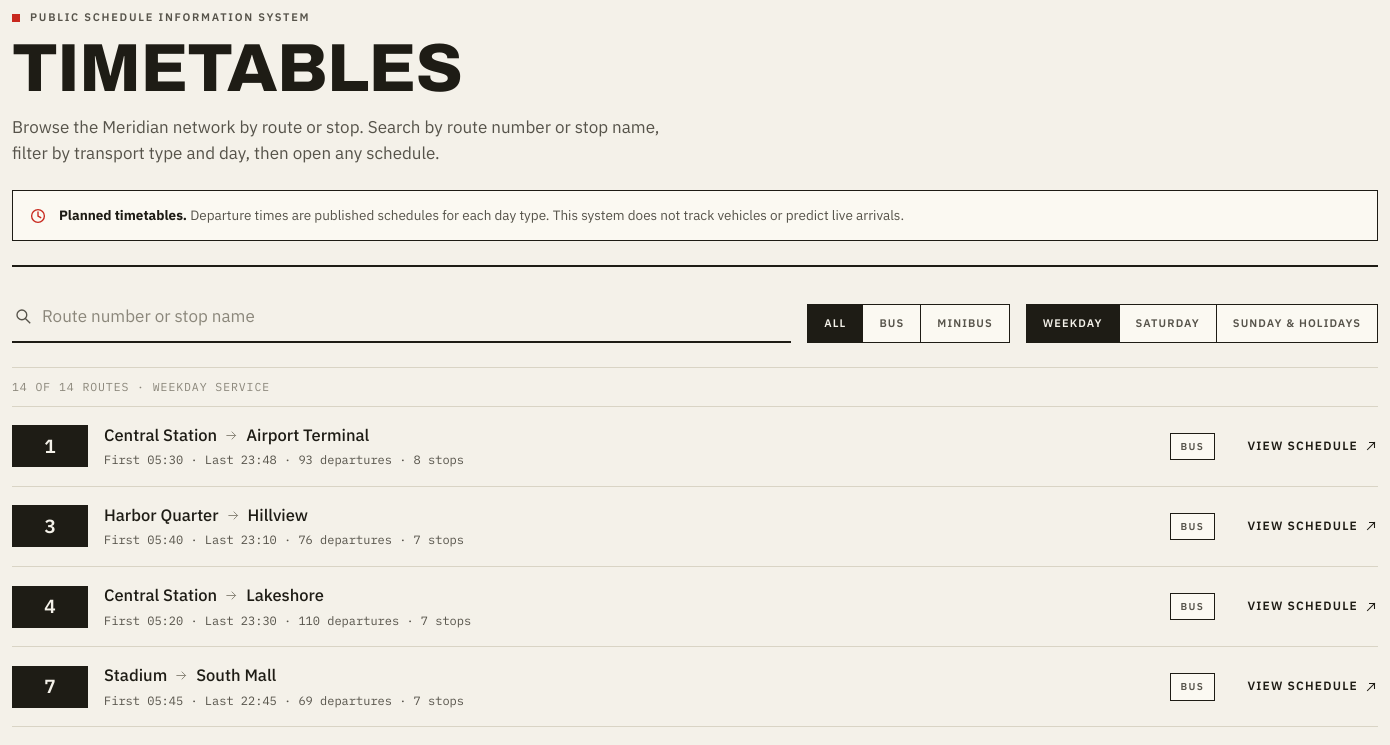
it: RouteListComponent › offers stop suggestions when the search matches a stop name
In the search field with id "route-search": [416, 316] box [42,299,789,333], type "lakeshore"
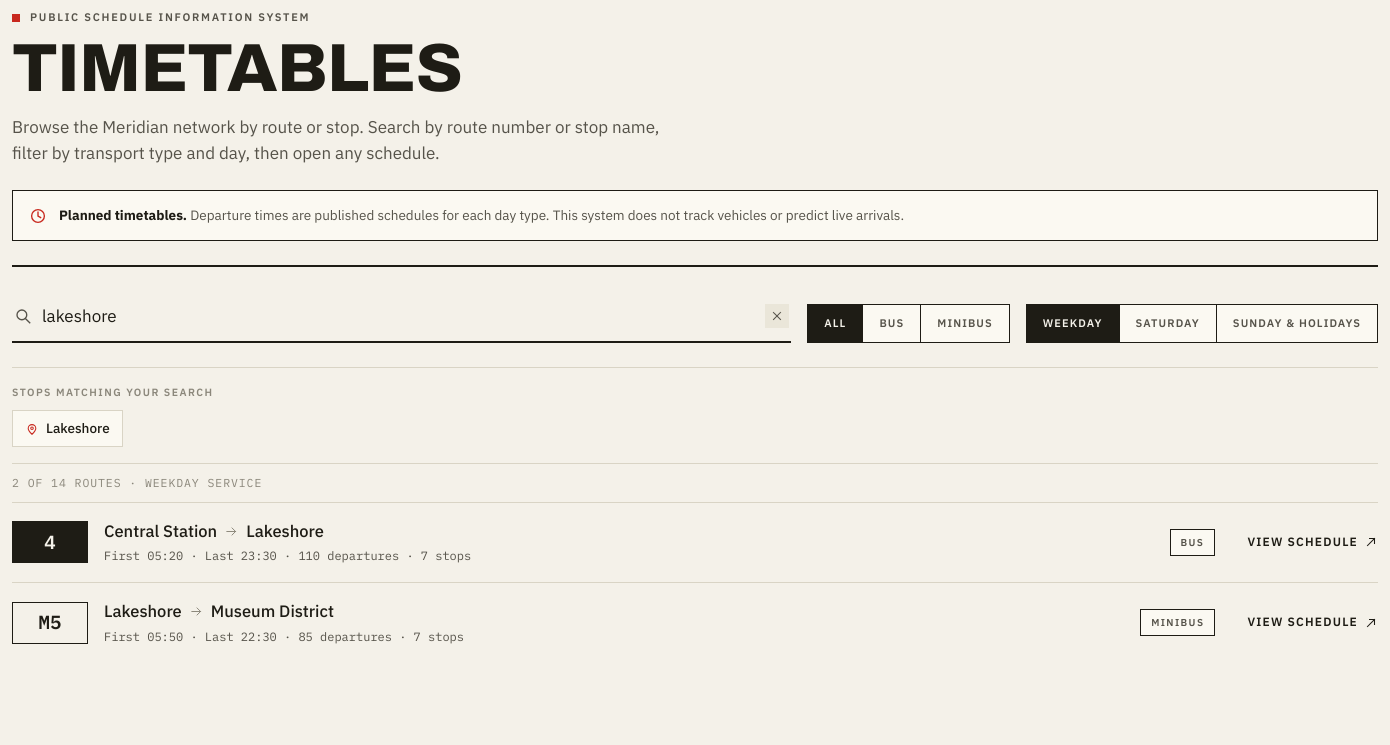
Result: the link "Lakeshore" is shown at [12,410,123,447]
